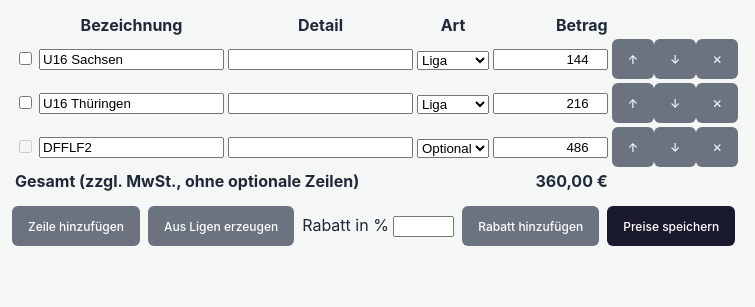
it: OfferLinesEditor › adds a percent discount on the selected lines
Click the 1st checkbox named "Für Rabatt auswählen" at (26, 58), box [19, 52, 32, 65]
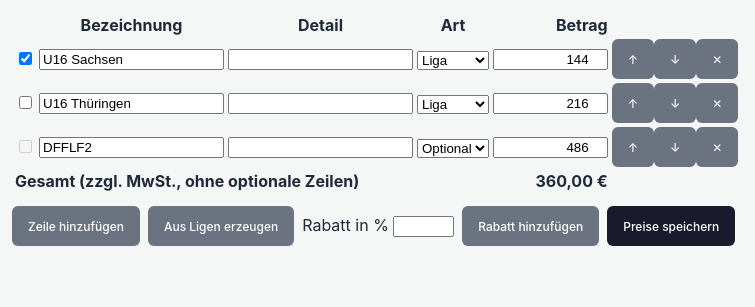
Click the 2nd checkbox named "Für Rabatt auswählen" at (26, 102), box [19, 96, 32, 109]
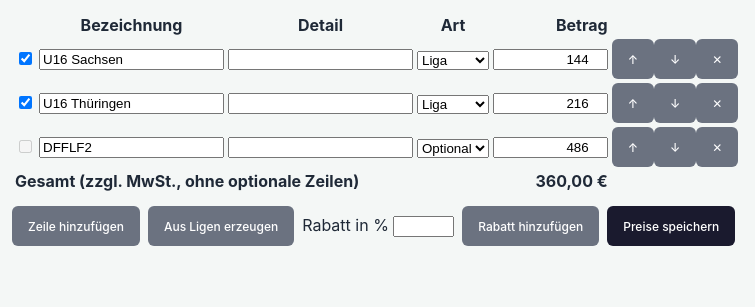
Type "15" into the field labelled "Rabatt in %" at (423, 226), box [393, 216, 454, 237]
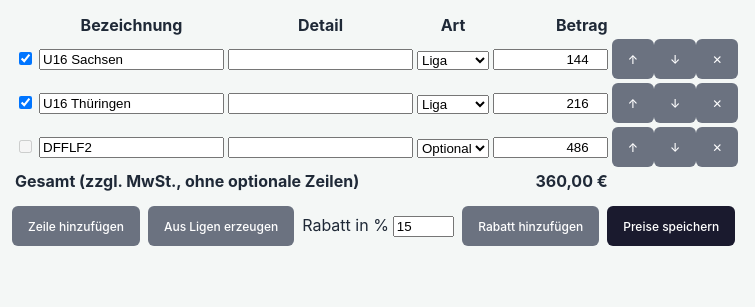
Click the button "Rabatt hinzufügen" at (531, 226), box [462, 206, 599, 246]
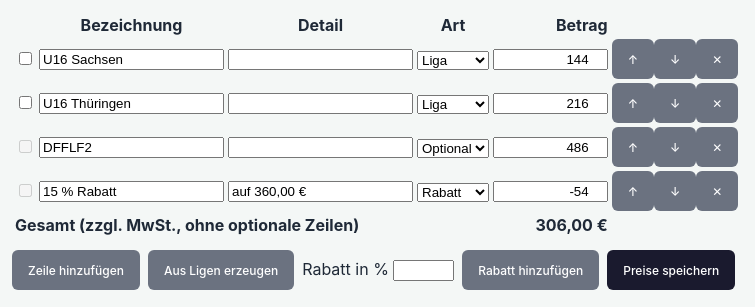
Expected: the cell with test id "offer-lines-total" reads "306,00 €", [535, 215, 608, 235]
